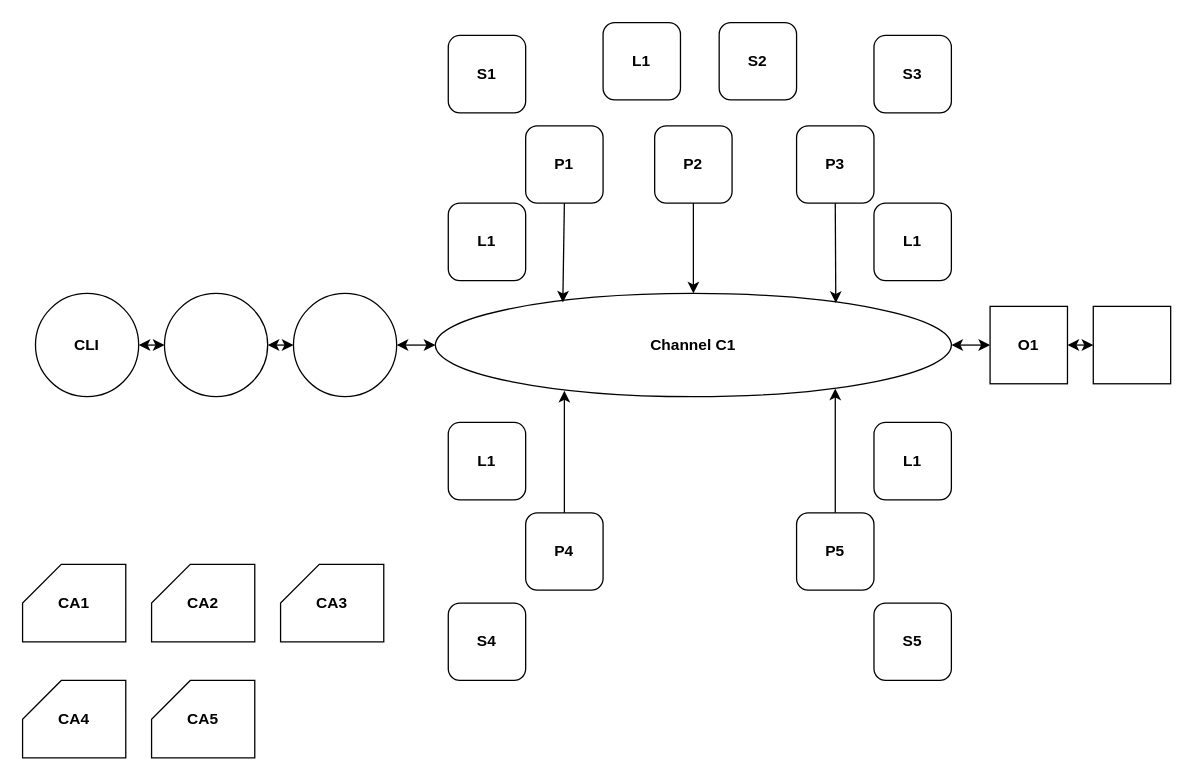
This 1193x780 diagram has some shape labels left out. Each missing label, with the box of its shape:
API: (163, 292, 268, 397)
NC1: (1092, 305, 1171, 384)
SDK: (292, 292, 397, 397)
